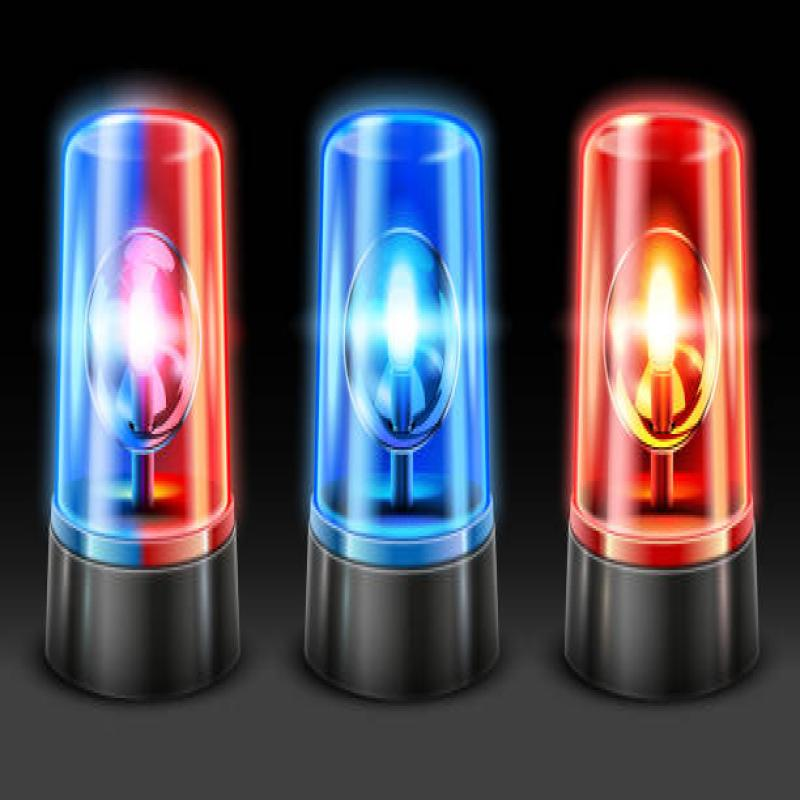AmbulanceSiren: (280, 89, 512, 717), (553, 43, 765, 717), (42, 73, 262, 710)
